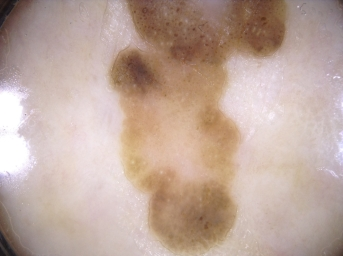seborrheic keratosis: (102, 1, 288, 256)
